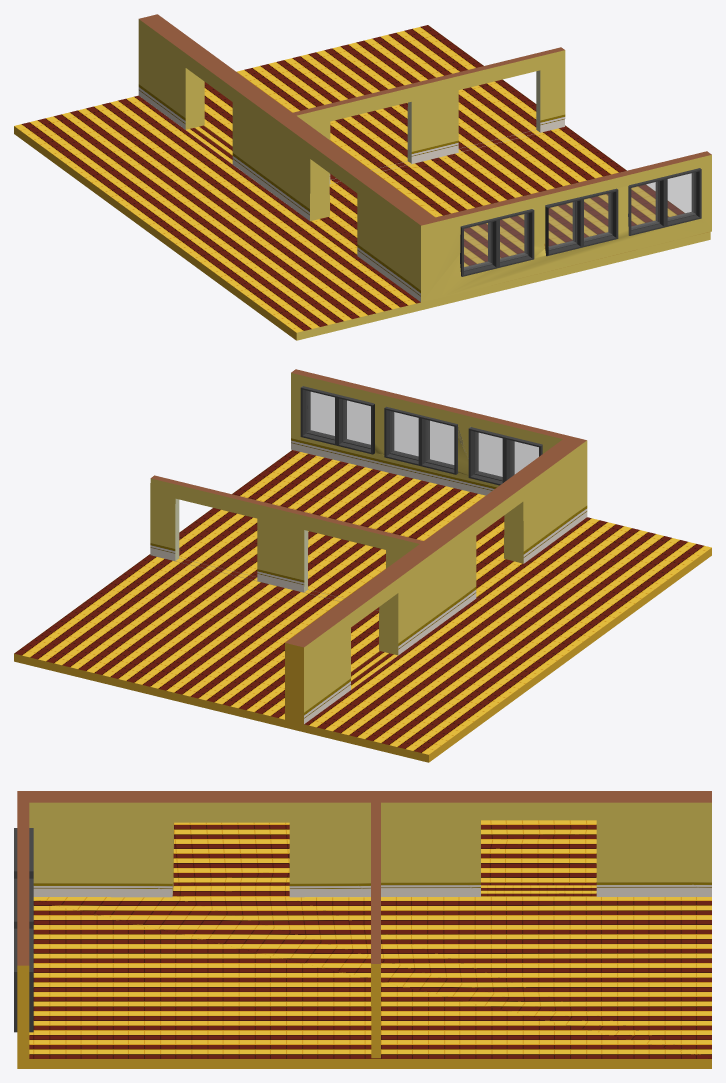
Rendered from Second Floor V5.fbx.
The picture shows the model from 3 angles, top to bottom: view 1: azimuth 30°, elevation 25°; view 2: azimuth 150°, elevation 25°; view 3: azimuth 270°, elevation 25°; orthographic projection. The views are drawn at different scales.
Visible parts, largest first — view 1: polySurface801; view 2: polySurface801; view 3: polySurface801.
Boxes of the visible parts, box(x1,y1,x2,y2) form: polySurface801: box(14, 14, 711, 340); polySurface801: box(14, 369, 711, 762); polySurface801: box(14, 791, 711, 1068).
Bounding box in the file's own units: 2365 × 461 × 2800.
6 materials, 2 textured.
